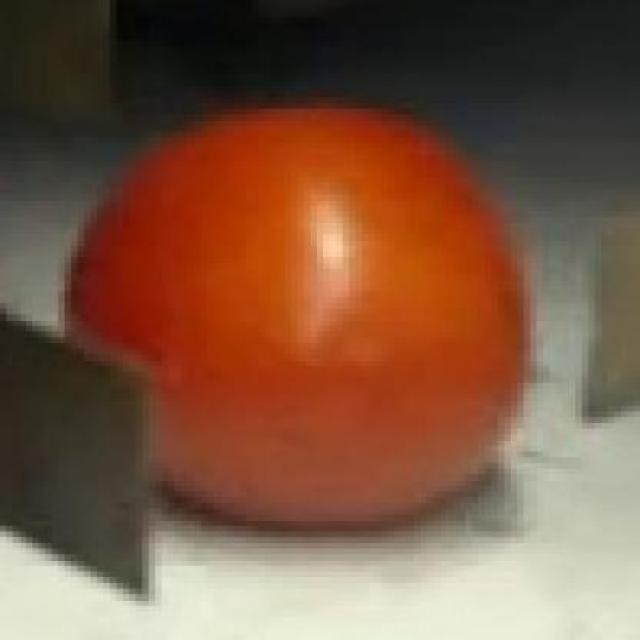tomato: (65, 108, 531, 527)
